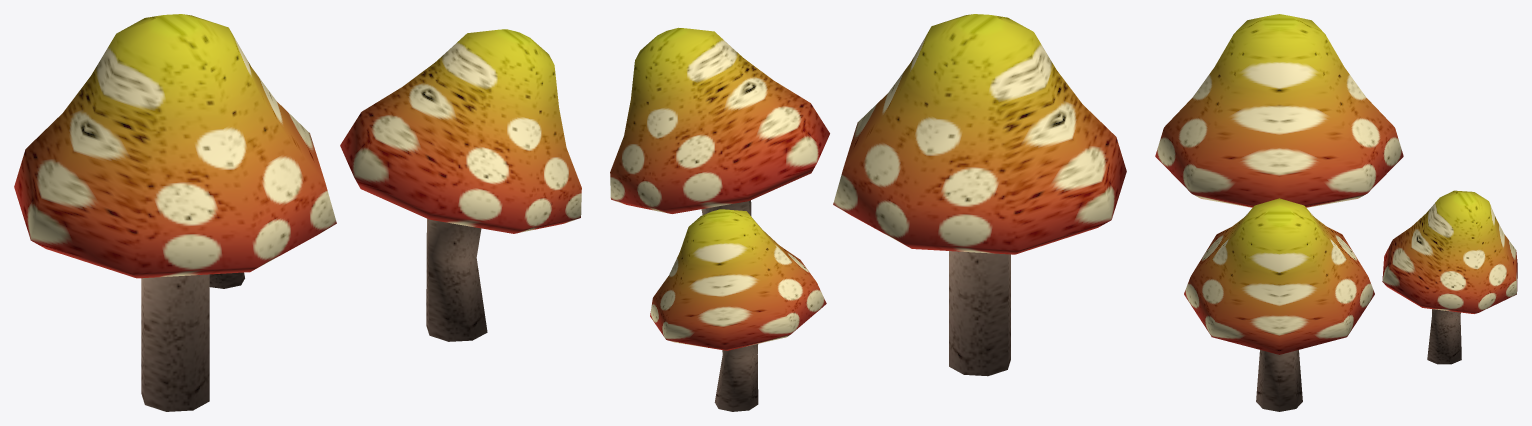
Rendered from VEG0110015.fbx.
The picture shows the model from 3 angles, left to right: view 1: azimuth 30°, elevation 25°; view 2: azimuth 150°, elevation 25°; view 3: azimuth 270°, elevation 25°; orthographic projection. The views are drawn at different scales.
Parts seen in each view (by area): view 1: smVEG0110015; view 2: smVEG0110015; view 3: smVEG0110015.
Part boxes in pixels (left/top/right/bottom): smVEG0110015: left=14, top=14, right=581, bottom=411; smVEG0110015: left=610, top=14, right=1126, bottom=411; smVEG0110015: left=1155, top=14, right=1517, bottom=411.
Bounding box in the file's own units: 31 × 20.72 × 24.38.
1 material, 1 textured.
